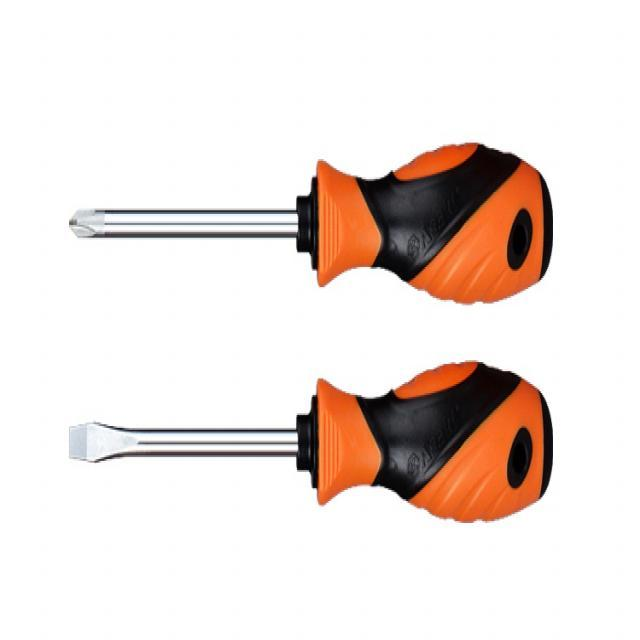screwdriver: (52, 123, 556, 314), (66, 345, 558, 530)
